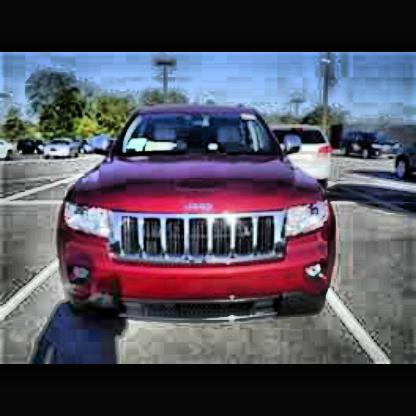Jeep Grand Cherokee SUV 2012: (58, 105, 341, 319)
